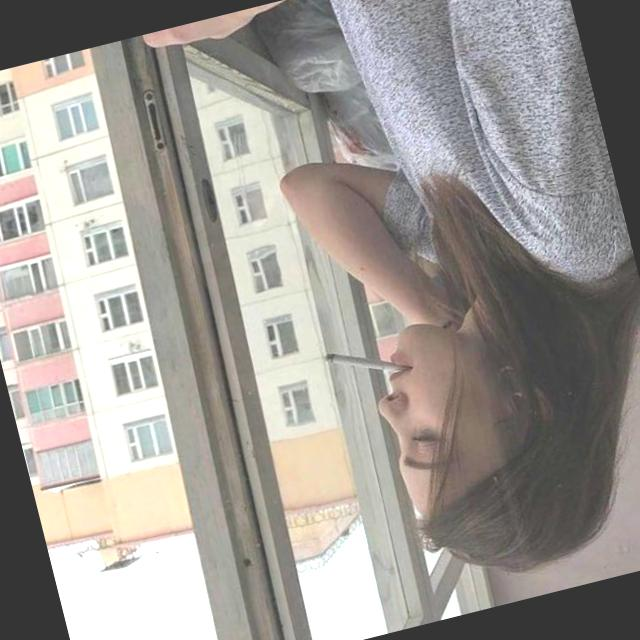cigarette: (306, 329, 406, 391)
